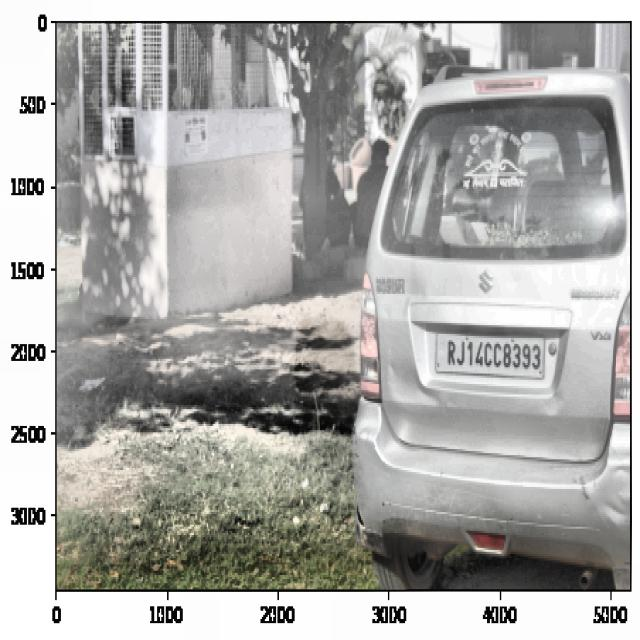license_plate: (446, 333, 545, 379)
